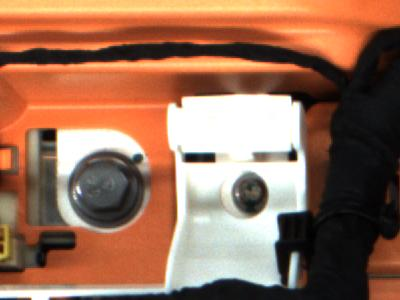nut_b: (65, 146, 157, 231)
